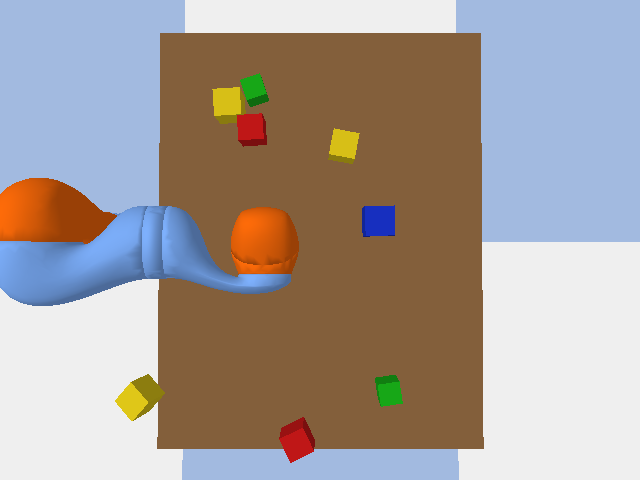blue_obj: (362, 205, 394, 236)
green_obj: (240, 73, 268, 106), (375, 375, 402, 406)
red_obj: (279, 417, 314, 462), (237, 113, 266, 146)
yellow_obj: (115, 374, 164, 420), (212, 87, 245, 123), (328, 128, 359, 163)
